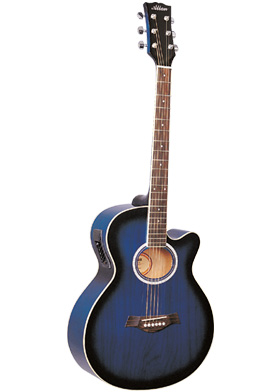guitar: (67, 1, 215, 389)
